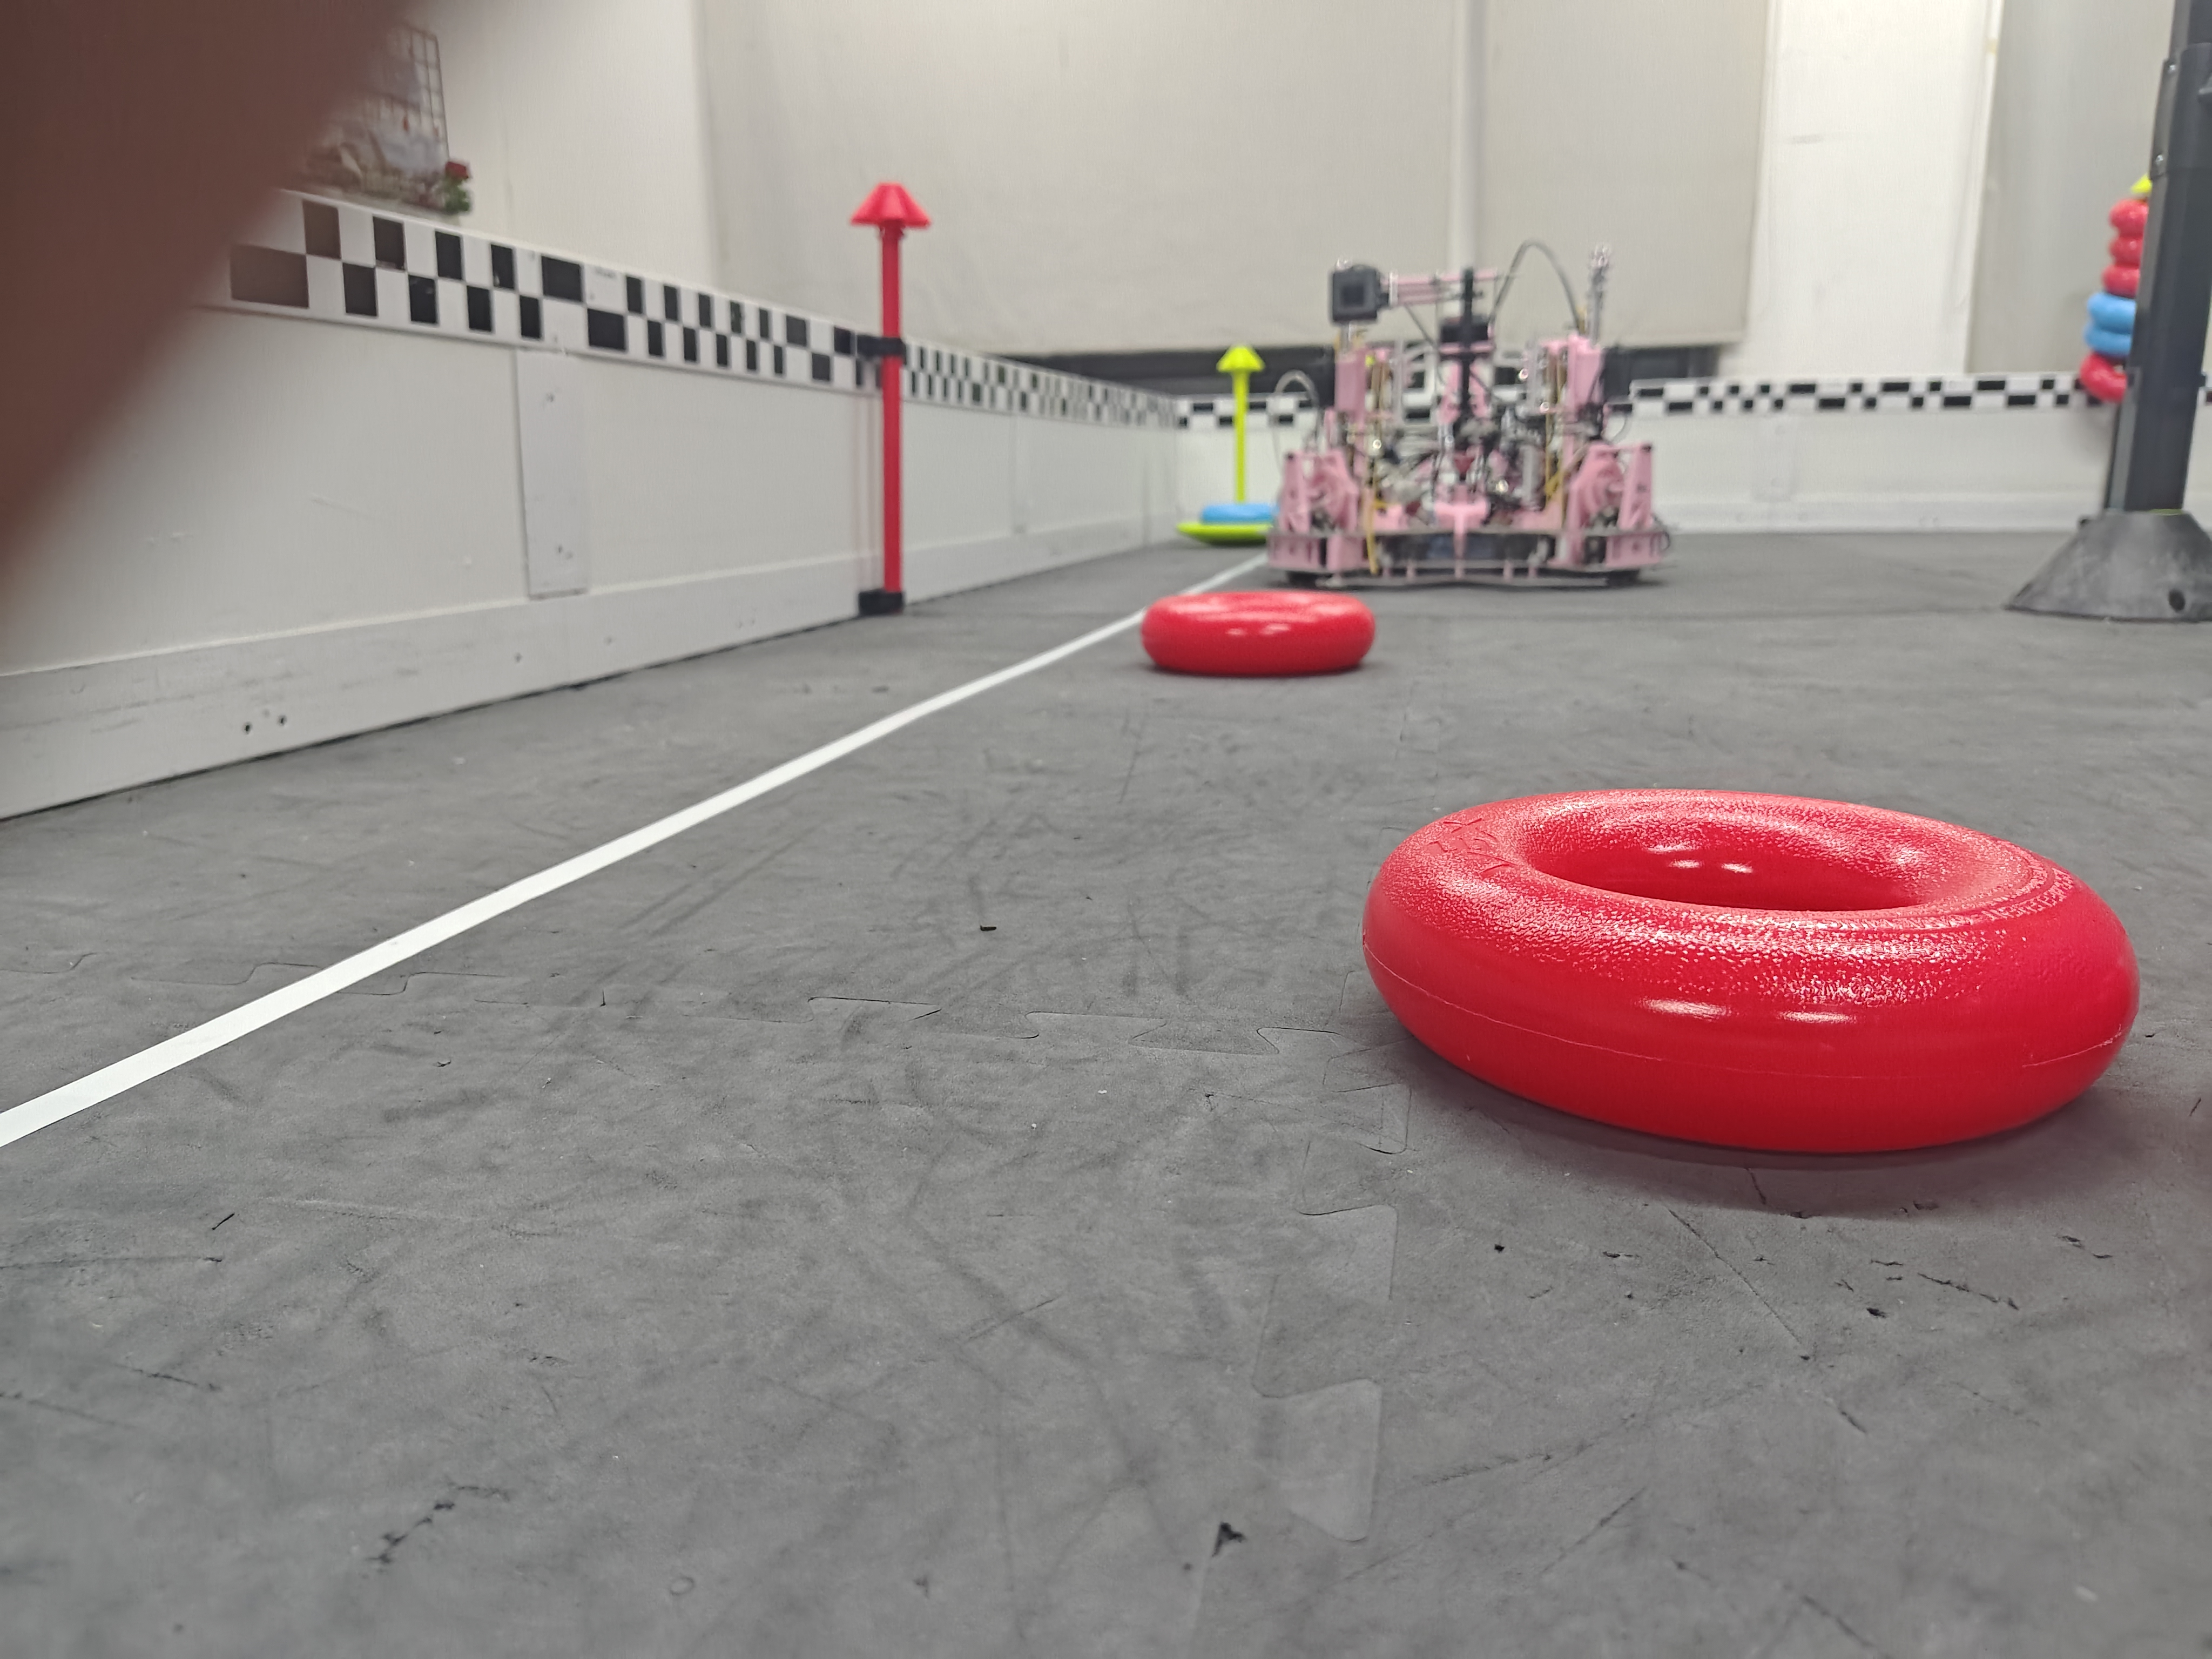blue: (1195, 504, 1280, 530)
red: (1366, 784, 2144, 1154), (1141, 584, 1376, 680)
score: (1183, 324, 1318, 559)
